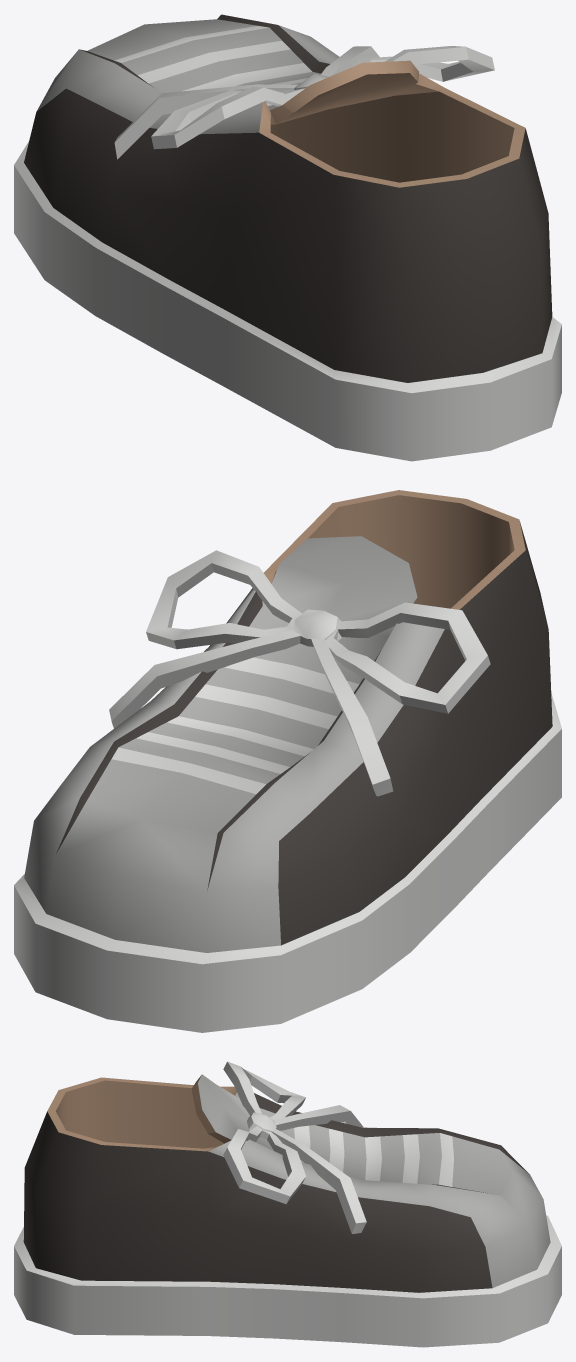
Rendered from 61_prop_sneakers.FBX.
The picture shows the model from 3 angles, top to bottom: view 1: azimuth 30°, elevation 25°; view 2: azimuth 150°, elevation 25°; view 3: azimuth 270°, elevation 25°; orthographic projection. The views are drawn at different scales.
Parts seen in each view (by area): view 1: prop_sneakers; view 2: prop_sneakers; view 3: prop_sneakers.
Part boxes in pixels (x1,y1,x2,y2): prop_sneakers: (14,14,561,461); prop_sneakers: (14,490,561,1032); prop_sneakers: (14,1061,561,1347).
Bounding box in the file's own units: 8.81 × 7.75 × 18.11.
